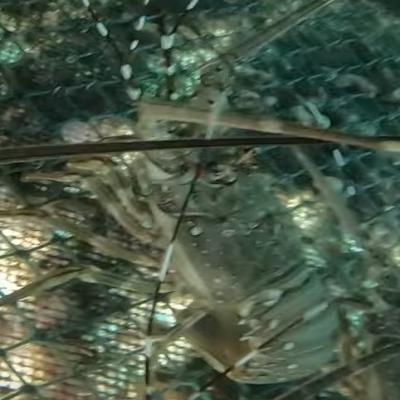lobster: (84, 99, 338, 385)
